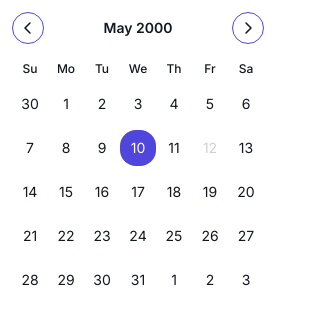
Test: Calendar › preserves accessible calendar navigation and selection semantics
This screenshot has width=320, height=327.
Expected: the table named "May 2000" is shown, [12,60,264,298]
Expected: the button named "Go to the Next Month" is shown, [232,12,264,44]
Step 1. Click the button named "Thursday, May 11th, 2000" → (174, 148), box [156,130,192,166]
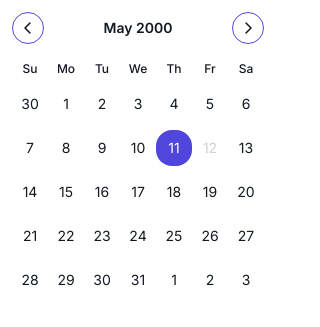
Result: the button named "Thursday, May 11th, 2000, selected" is shown at [156,130,192,166]
